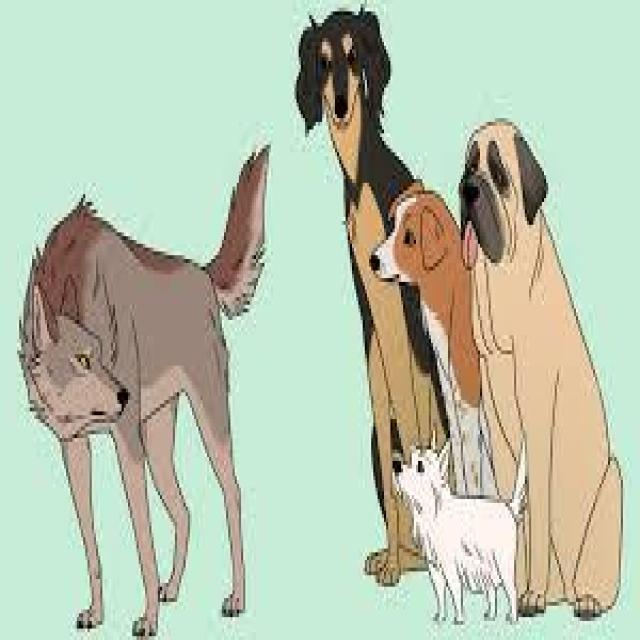dog: (291, 1, 639, 628), (24, 189, 256, 596)
